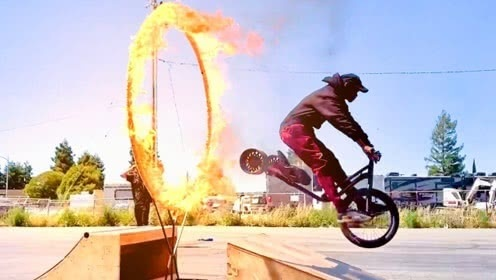fire: (124, 0, 262, 212)
